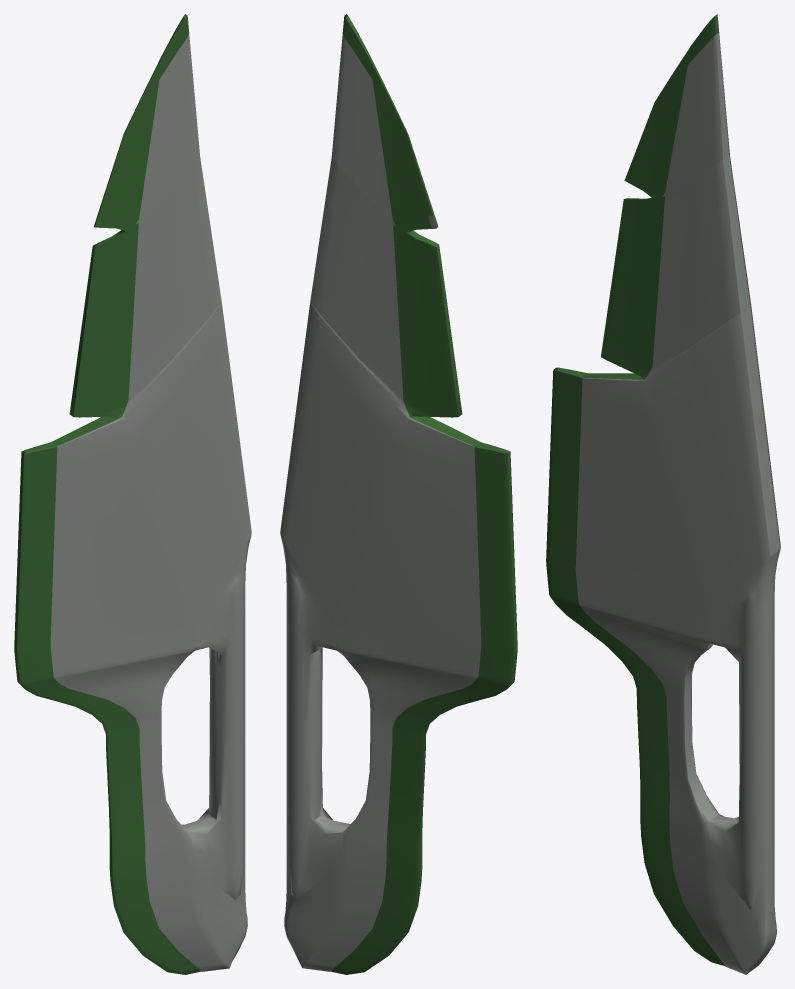
Rendered from Espada.fbx.
3 views of the same model, side by side, from view 1: azimuth 30°, elevation 25°; view 2: azimuth 150°, elevation 25°; view 3: azimuth 330°, elevation 25° (orthographic).
Visible parts, largest first — view 1: pCylinder1; view 2: pCylinder1; view 3: pCylinder1.
Boxes of the visible parts, x1=… form: pCylinder1: x1=14, y1=14, x2=251, y2=974; pCylinder1: x1=280, y1=14, x2=517, y2=974; pCylinder1: x1=546, y1=14, x2=780, y2=974.
Size of the model in its own units: 0.9568 by 3.8 by 0.1288.
